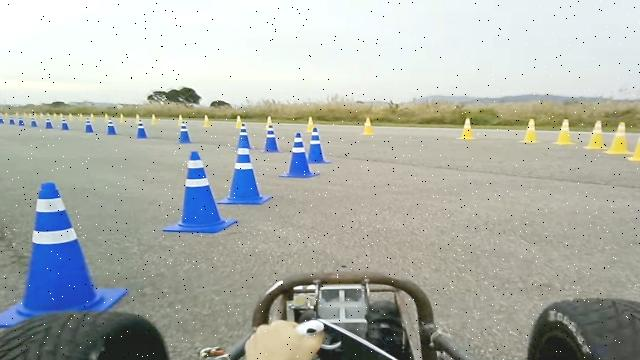blue cone: (0, 181, 128, 328), (162, 150, 238, 233), (216, 147, 272, 205), (278, 131, 320, 178), (307, 127, 331, 164), (260, 124, 282, 153), (233, 122, 253, 150), (177, 122, 192, 144), (135, 120, 148, 138), (106, 119, 117, 135), (84, 118, 94, 132), (60, 117, 70, 130), (44, 116, 54, 128), (17, 116, 25, 126), (30, 118, 38, 127), (8, 116, 15, 125), (0, 115, 4, 124)
yellow cone: (604, 122, 632, 154), (583, 120, 607, 150), (552, 118, 576, 145), (518, 118, 540, 143), (626, 124, 640, 162), (456, 118, 476, 140), (360, 117, 374, 135), (305, 116, 314, 132), (202, 114, 212, 127), (264, 115, 272, 130), (235, 115, 242, 128), (177, 114, 184, 126), (150, 114, 158, 124), (118, 113, 126, 123), (134, 113, 141, 124), (102, 112, 109, 122)
